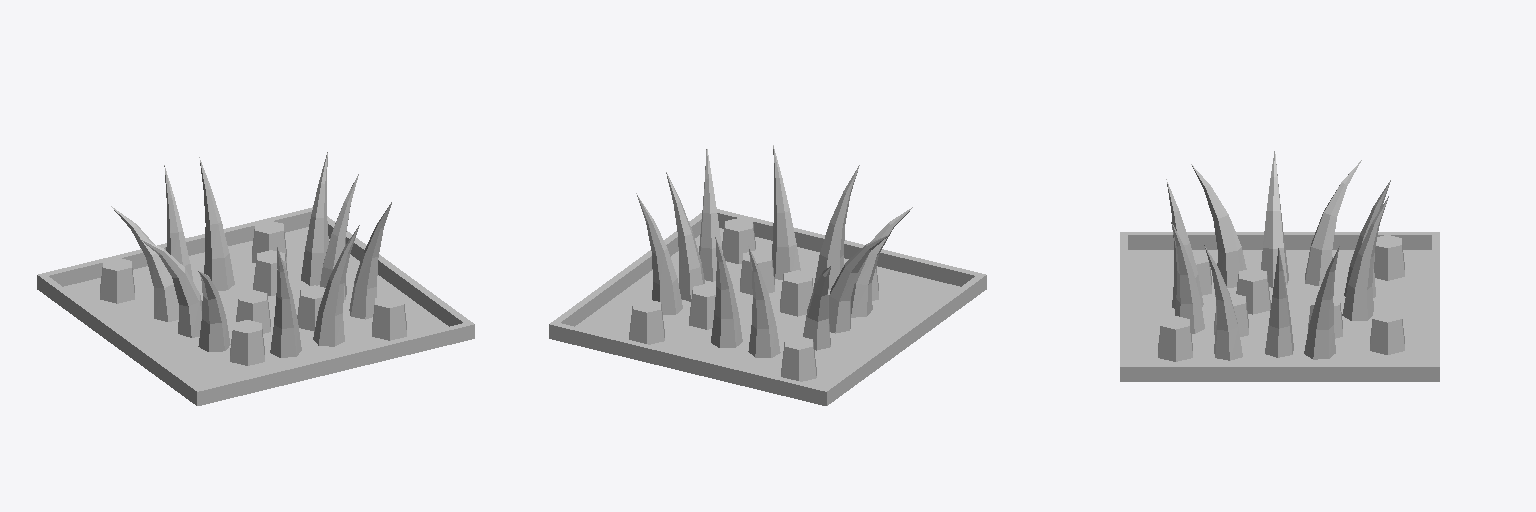
The model's file is PBR - Metallic Roughness Alpha-blend.obj.
3 views of the same model, side by side, from view 1: azimuth 30°, elevation 25°; view 2: azimuth 150°, elevation 25°; view 3: azimuth 270°, elevation 25° (orthographic).
Parts seen in each view (by area): view 1: SM_Spiketrapp_broken; view 2: SM_Spiketrapp_broken; view 3: SM_Spiketrapp_broken.
Part boxes in pixels (x1,y1,x2,y2): SM_Spiketrapp_broken: (37,152,474,405); SM_Spiketrapp_broken: (549,145,986,405); SM_Spiketrapp_broken: (1120,151,1439,381).
Bounding box in the file's own units: 200 × 82.49 × 200.